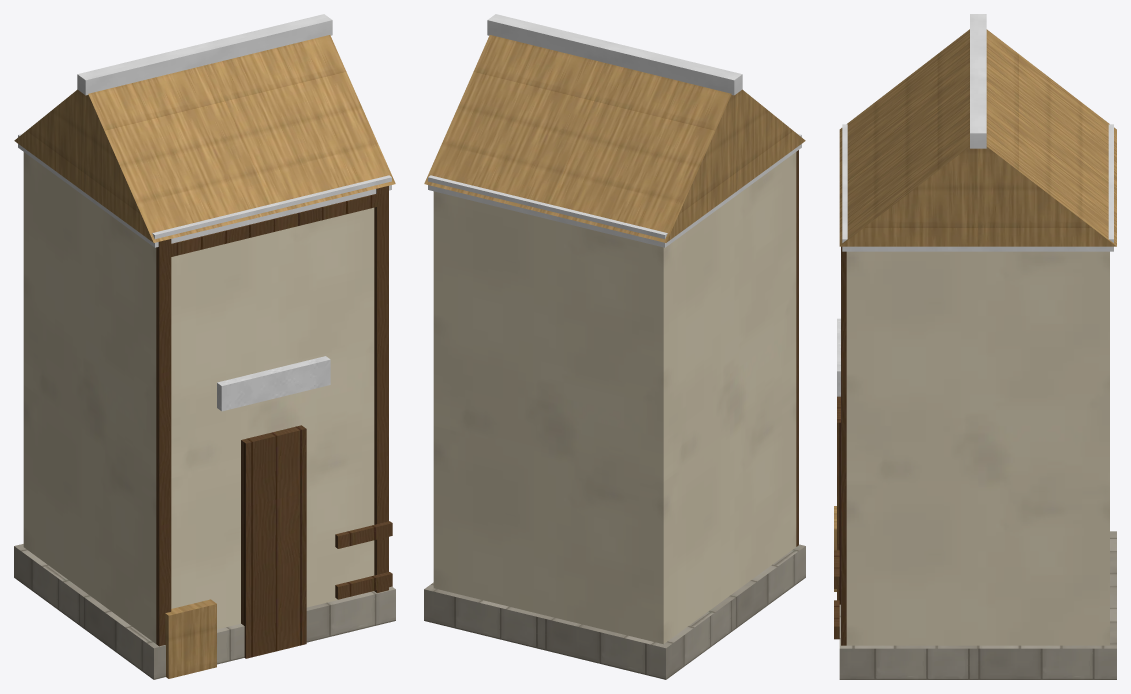
Rendered from category.staking.t4.glb.
The picture shows the model from 3 angles, left to right: view 1: azimuth 30°, elevation 25°; view 2: azimuth 150°, elevation 25°; view 3: azimuth 270°, elevation 25°; orthographic projection.
Parts seen in each view (by area): view 1: building.category.staking.t4; view 2: building.category.staking.t4; view 3: building.category.staking.t4.
Part boxes in pixels (x1,y1,x2,y2): building.category.staking.t4: (14,14,395,679); building.category.staking.t4: (424,14,805,679); building.category.staking.t4: (834,14,1116,679).
Size of the model in its own units: 2.04 by 4.36 by 2.04.
Materials: 6 (6 with a texture image).
